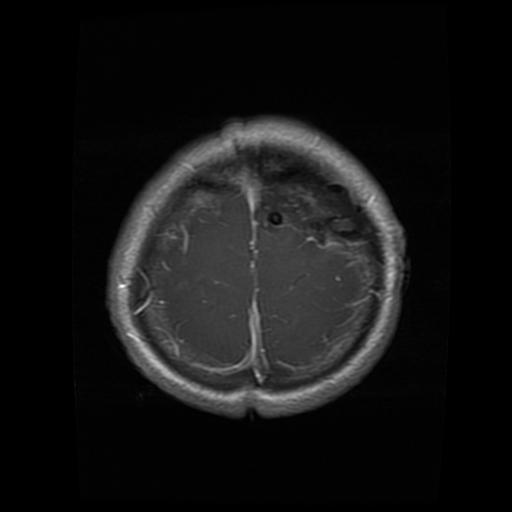Gliomia_tumour: (183, 148, 369, 241)
